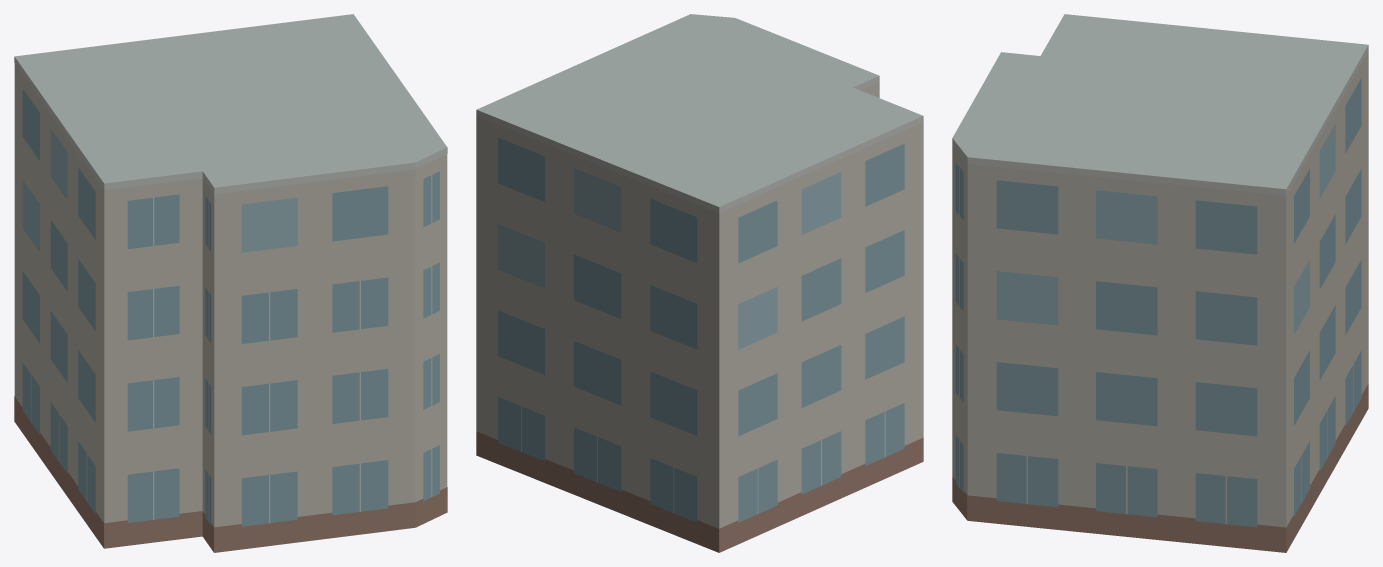
The model's file is survey-upis-32828597.glb.
The picture shows the model from 3 angles, left to right: view 1: azimuth 30°, elevation 25°; view 2: azimuth 150°, elevation 25°; view 3: azimuth 270°, elevation 25°; orthographic projection. The views are drawn at different scales.
Parts seen in each view (by area): view 1: survey-upis-32828597.tmp; view 2: survey-upis-32828597.tmp; view 3: survey-upis-32828597.tmp.
Boxes of the visible parts, <box> form: survey-upis-32828597.tmp: <box>14,14,447,552</box>; survey-upis-32828597.tmp: <box>476,14,923,552</box>; survey-upis-32828597.tmp: <box>952,14,1368,552</box>.
Bounding box in the file's own units: 13.97 × 13.5 × 14.02.
